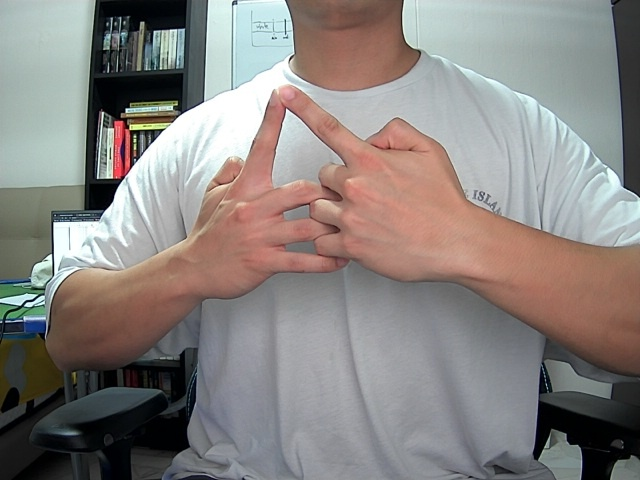Horse: (196, 79, 481, 322)
